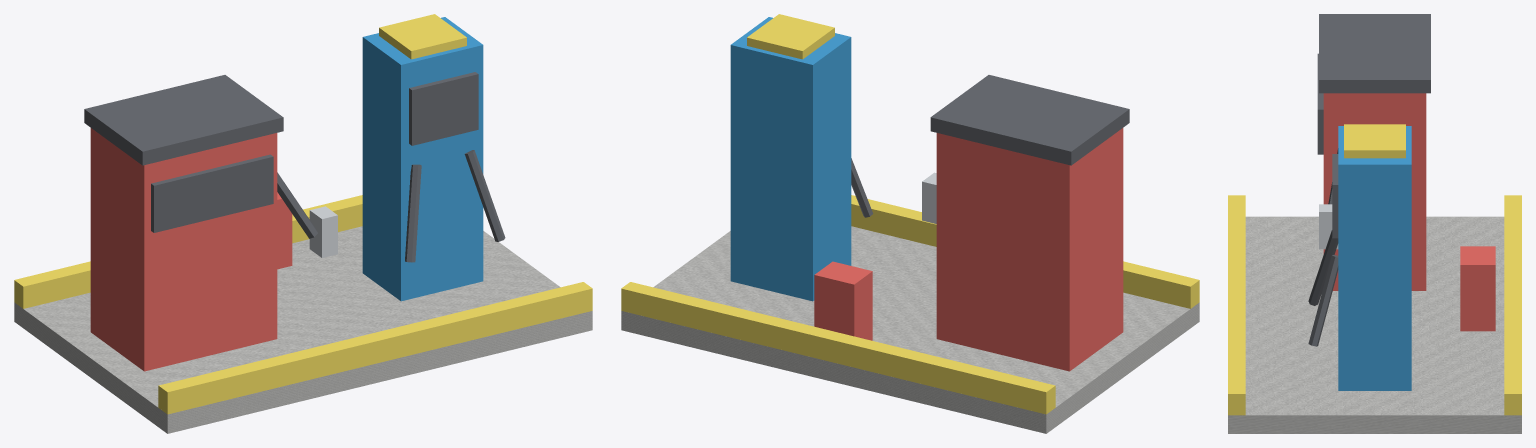
The model's file is go-kart-track-and-pit-lane-fuel-and-charging-station-d8de4028__34352.glb.
3 views of the same model, side by side, from view 1: azimuth 30°, elevation 25°; view 2: azimuth 150°, elevation 25°; view 3: azimuth 270°, elevation 25° (orthographic). The views are drawn at different scales.
Visible parts, largest first — view 1: fuel-and-charging-station-red, fuel-and-charging-station-concrete, fuel-and-charging-station-azure, fuel-and-charging-station-charcoal, fuel-and-charging-station-canary, fuel-and-charging-station-steel; view 2: fuel-and-charging-station-red, fuel-and-charging-station-concrete, fuel-and-charging-station-azure, fuel-and-charging-station-canary, fuel-and-charging-station-charcoal, fuel-and-charging-station-steel; view 3: fuel-and-charging-station-concrete, fuel-and-charging-station-azure, fuel-and-charging-station-charcoal, fuel-and-charging-station-canary, fuel-and-charging-station-red, fuel-and-charging-station-steel.
Boxes of the visible parts, box(x1,y1,x2,y2) form: fuel-and-charging-station-red: box(90, 128, 292, 371); fuel-and-charging-station-concrete: box(14, 226, 592, 433); fuel-and-charging-station-azure: box(362, 17, 483, 301); fuel-and-charging-station-charcoal: box(84, 72, 505, 262); fuel-and-charging-station-canary: box(14, 14, 592, 414); fuel-and-charging-station-steel: box(309, 206, 337, 257); fuel-and-charging-station-red: box(814, 128, 1123, 371); fuel-and-charging-station-concrete: box(621, 226, 1199, 433); fuel-and-charging-station-azure: box(730, 17, 851, 301); fuel-and-charging-station-canary: box(621, 14, 1199, 414); fuel-and-charging-station-charcoal: box(851, 75, 1129, 217); fuel-and-charging-station-steel: box(922, 172, 936, 223); fuel-and-charging-station-concrete: box(1228, 216, 1521, 433); fuel-and-charging-station-azure: box(1338, 126, 1411, 390); fuel-and-charging-station-charcoal: box(1308, 14, 1430, 346); fuel-and-charging-station-canary: box(1228, 124, 1521, 415); fuel-and-charging-station-red: box(1323, 93, 1495, 331); fuel-and-charging-station-steel: box(1319, 204, 1338, 249).
Bounding box in the file's own units: 3.2 × 1.9 × 2.
6 materials, 1 textured.
